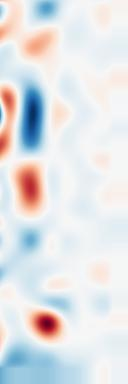filament: (6, 155, 55, 221), (23, 301, 68, 346)
